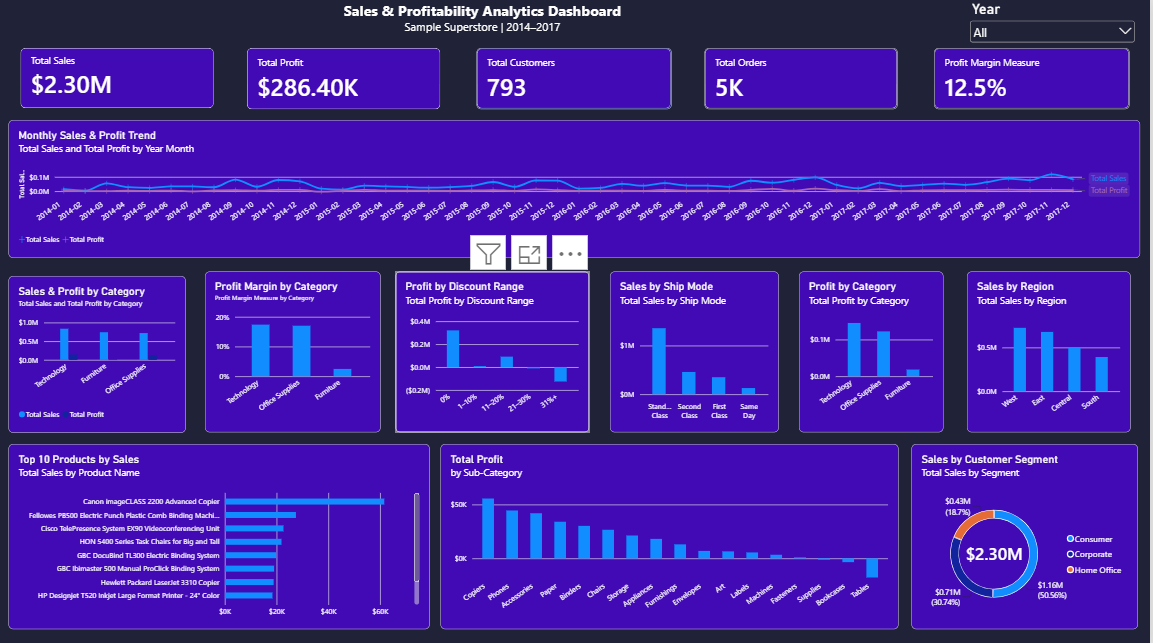

What the dashboard file says about the page in this screenshot:
{"tool":"powerbi","page":{"name":"Overview","canvas":[1920,1080],"ordinal":0},"visuals":[{"type":"textbox","box":[0,0,1614.9,75],"z":0},{"type":"textbox","box":[10,290,280,280],"z":1000},{"type":"cardVisual","fields":{"Data":["SuperstoreSales.Total Sales"]},"box":[38,80,322,100],"z":2000},{"type":"cardVisual","fields":{"Data":["SuperstoreSales.Total Profit"]},"box":[416,80,322,102],"z":3000},{"type":"cardVisual","fields":{"Data":["SuperstoreSales.Total Orders"]},"box":[1178,80,322.2,102.2],"z":4000},{"type":"cardVisual","fields":{"Data":["SuperstoreSales.Total Customers"]},"box":[798,80,325.6,102.2],"z":5000},{"type":"cardVisual","fields":{"Data":["SuperstoreSales.Profit Margin Measure"]},"box":[1560,80,326,102],"z":6000},{"type":"lineChart","title":"Monthly Sales & Profit Trend","fields":{"Category":["DateTable.Year Month"],"Y":["SuperstoreSales.Total Sales","SuperstoreSales.Total Profit"]},"box":[18,200,1886,230],"z":7000},{"type":"clusteredColumnChart","title":"Profit by Category","fields":{"Category":["SuperstoreSales.Category"],"Y":["SuperstoreSales.Total Profit"]},"box":[1335.5,452,240.8,268],"z":8000},{"type":"clusteredColumnChart","title":"Sales by Region","fields":{"Category":["SuperstoreSales.Region"],"Y":["SuperstoreSales.Total Sales"]},"box":[1614.9,452,272.6,268],"z":9000},{"type":"clusteredColumnChart","fields":{"Category":["SuperstoreSales.Sub-Category"],"Y":["SuperstoreSales.Total Profit"]},"box":[738.2,740.4,763.2,308.9],"z":10000},{"type":"clusteredColumnChart","title":"Sales & Profit by Category","fields":{"Category":["SuperstoreSales.Category"],"Y":["SuperstoreSales.Total Sales","SuperstoreSales.Total Profit"]},"box":[18.2,458.8,295.3,261.2],"z":11000},{"type":"clusteredBarChart","title":"Top 10 Products by Sales","fields":{"Category":["SuperstoreSales.Product Name"],"Y":["SuperstoreSales.Total Sales"]},"box":[18.2,740.4,701.8,308.9],"z":12000},{"type":"clusteredColumnChart","title":"Profit Margin by Category","fields":{"Category":["SuperstoreSales.Category"],"Y":["SuperstoreSales.Profit Margin Measure"]},"box":[345.2,452,293,268],"z":13000},{"type":"clusteredColumnChart","title":"Profit by Discount Range","fields":{"Category":["SuperstoreSales.Discount Range"],"Y":["SuperstoreSales.Total Profit"]},"box":[663.2,452,322.5,268],"z":14000},{"type":"donutChart","title":"Sales by Customer Segment","fields":{"Category":["SuperstoreSales.Segment"],"Y":["SuperstoreSales.Total Sales"]},"box":[1521.8,740.4,377,308.9],"z":15000},{"type":"clusteredColumnChart","title":"Sales by Ship Mode","fields":{"Category":["SuperstoreSales.Ship Mode"],"Y":["SuperstoreSales.Total Sales"]},"box":[1019.8,452,281.6,268],"z":16000},{"type":"slicer","title":"YEAR","fields":{"Values":["DateTable.Year"]},"box":[1615.6,0,284.4,75.6],"z":17000}]}

Visuals, with their boxes in screenshot pixels (x1, y1, x2, y2), scaled from the page's 1920x1080 canvas onto the 1153x643 screenshot:
textbox: BBox(0, 0, 970, 45)
textbox: BBox(6, 173, 174, 339)
cardVisual - SuperstoreSales.Total Sales: BBox(23, 48, 216, 107)
cardVisual - SuperstoreSales.Total Profit: BBox(250, 48, 443, 108)
cardVisual - SuperstoreSales.Total Orders: BBox(707, 48, 901, 108)
cardVisual - SuperstoreSales.Total Customers: BBox(479, 48, 675, 108)
cardVisual - SuperstoreSales.Profit Margin Measure: BBox(937, 48, 1133, 108)
"Monthly Sales & Profit Trend" lineChart: BBox(11, 119, 1143, 256)
"Profit by Category" clusteredColumnChart: BBox(802, 269, 947, 429)
"Sales by Region" clusteredColumnChart: BBox(970, 269, 1133, 429)
clusteredColumnChart - SuperstoreSales.Sub-Category x SuperstoreSales.Total Profit: BBox(443, 441, 902, 625)
"Sales & Profit by Category" clusteredColumnChart: BBox(11, 273, 188, 429)
"Top 10 Products by Sales" clusteredBarChart: BBox(11, 441, 432, 625)
"Profit Margin by Category" clusteredColumnChart: BBox(207, 269, 383, 429)
"Profit by Discount Range" clusteredColumnChart: BBox(398, 269, 592, 429)
"Sales by Customer Segment" donutChart: BBox(914, 441, 1140, 625)
"Sales by Ship Mode" clusteredColumnChart: BBox(612, 269, 782, 429)
"YEAR" slicer: BBox(970, 0, 1141, 45)
